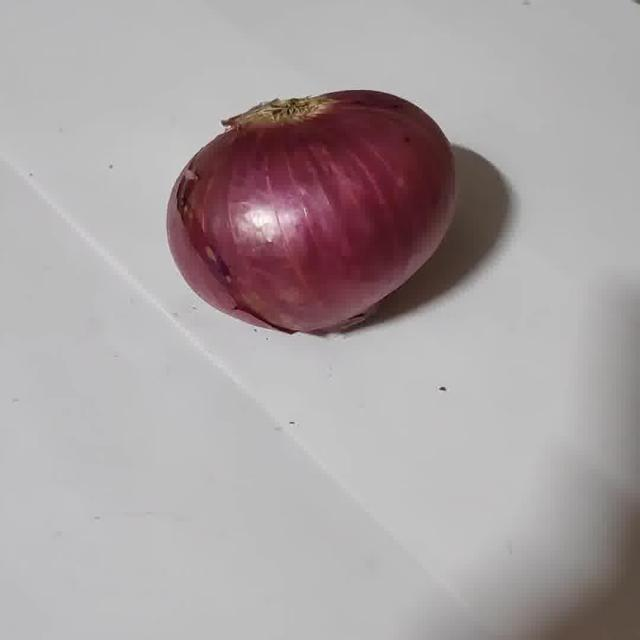Onion: (167, 90, 455, 335)
